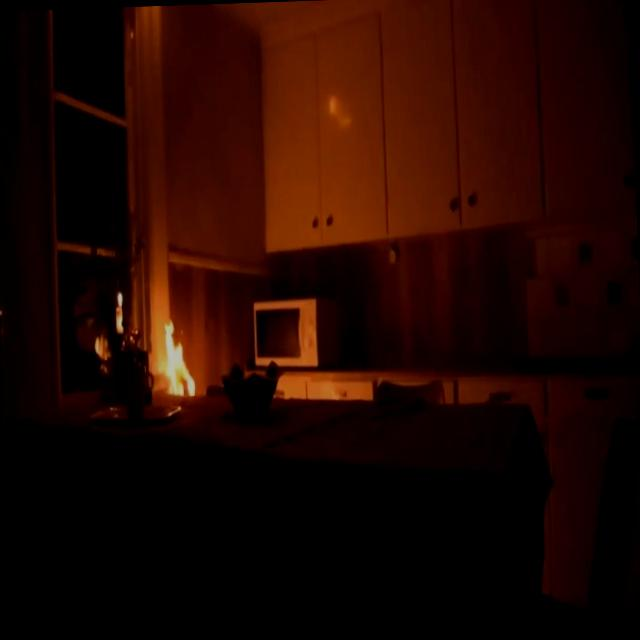fire: (144, 307, 202, 409)
